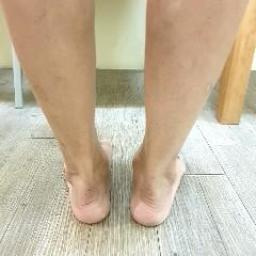Back View -Both Feet-: (39, 120, 208, 239)
